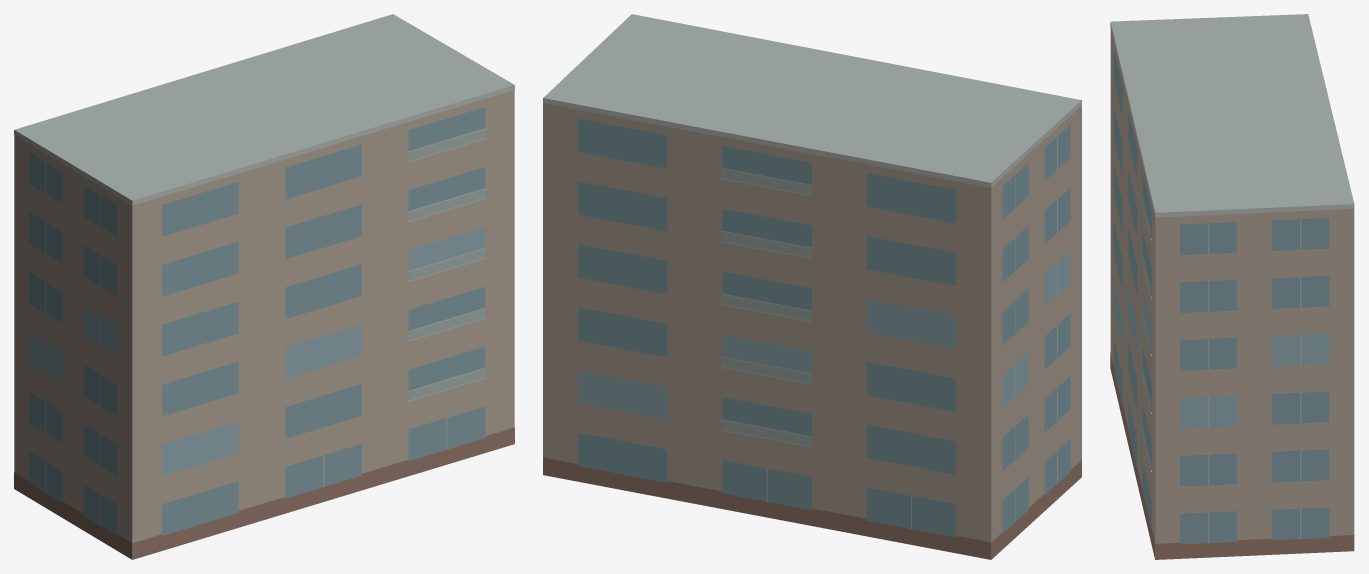
The model's file is survey-upis-32664215.glb.
3 views of the same model, side by side, from view 1: azimuth 30°, elevation 25°; view 2: azimuth 150°, elevation 25°; view 3: azimuth 270°, elevation 25° (orthographic). The views are drawn at different scales.
Parts seen in each view (by area): view 1: survey-upis-32664215.tmp; view 2: survey-upis-32664215.tmp; view 3: survey-upis-32664215.tmp.
Boxes of the visible parts, box(x1,y1,x2,y2) form: survey-upis-32664215.tmp: box(14, 14, 514, 559); survey-upis-32664215.tmp: box(543, 14, 1081, 559); survey-upis-32664215.tmp: box(1110, 14, 1354, 559).
Size of the model in its own units: 21.87 by 17.8 by 11.35.
